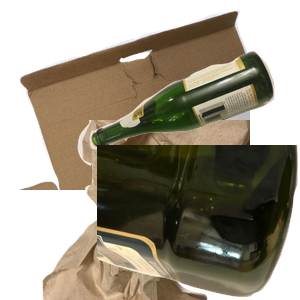cardboard: (16, 10, 256, 190)
glass: (87, 48, 300, 190)
plastic: (97, 145, 300, 300)
trash: (40, 120, 280, 300)
